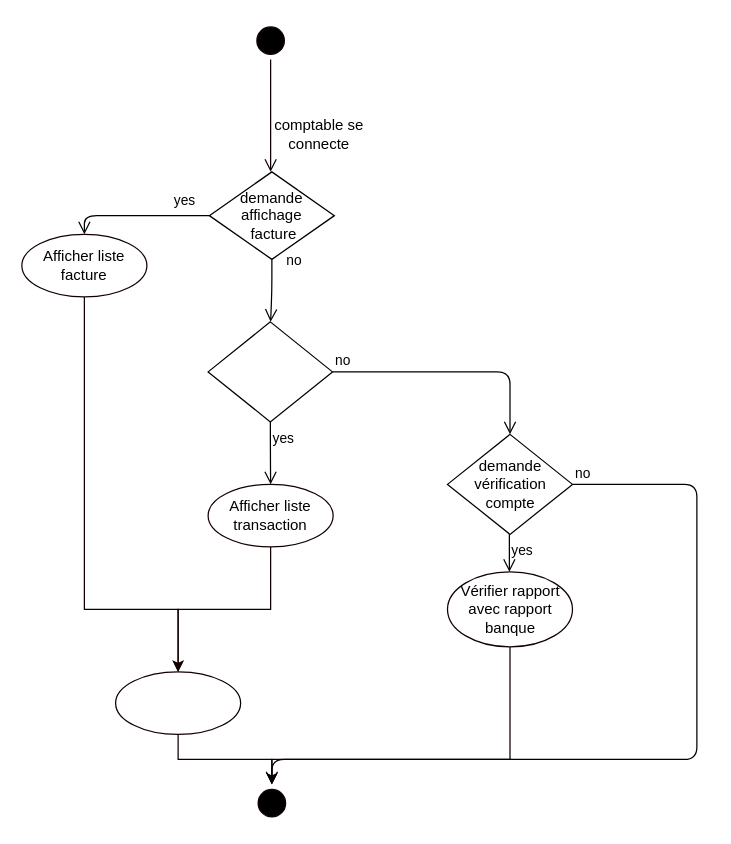
Some shapes in this 731 by 844 pixel diagram are drawn without their labels. The shapes that lost their labels are listed below. From the top down, each one's centre as x and y in pixels, then its label:
At (269,371): "demande affichage transaction".
At (177,702): "Effectuer rapprochement bancaire".
